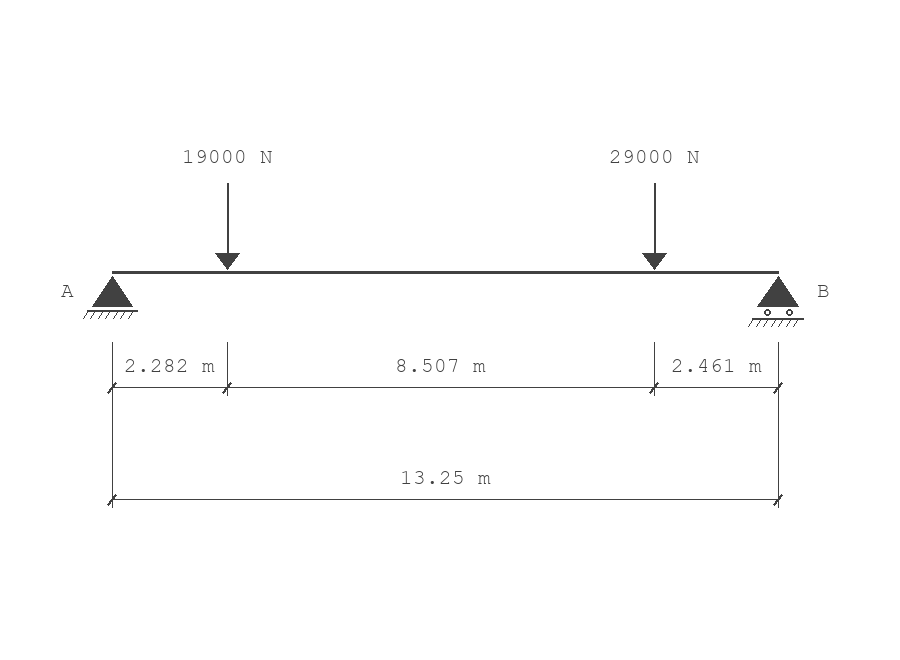pin_support: (83, 276, 138, 319)
point_load: (215, 183, 240, 270), (642, 183, 667, 270)
roller_support: (748, 276, 804, 327)
